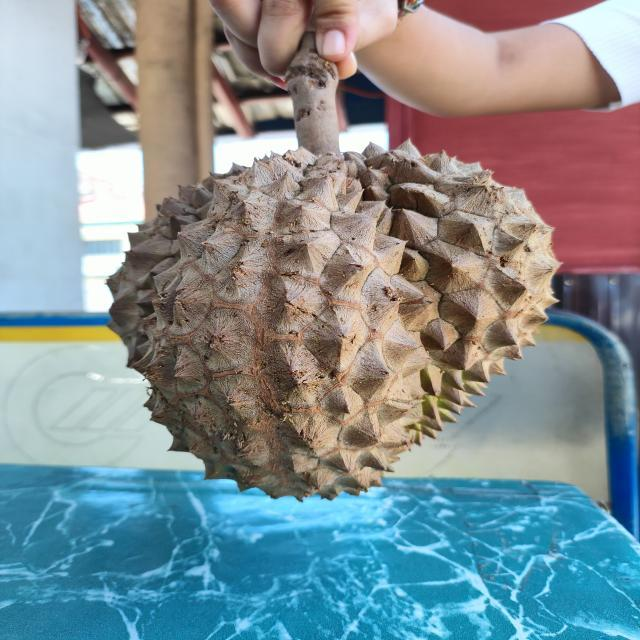mature: (100, 133, 565, 505)
